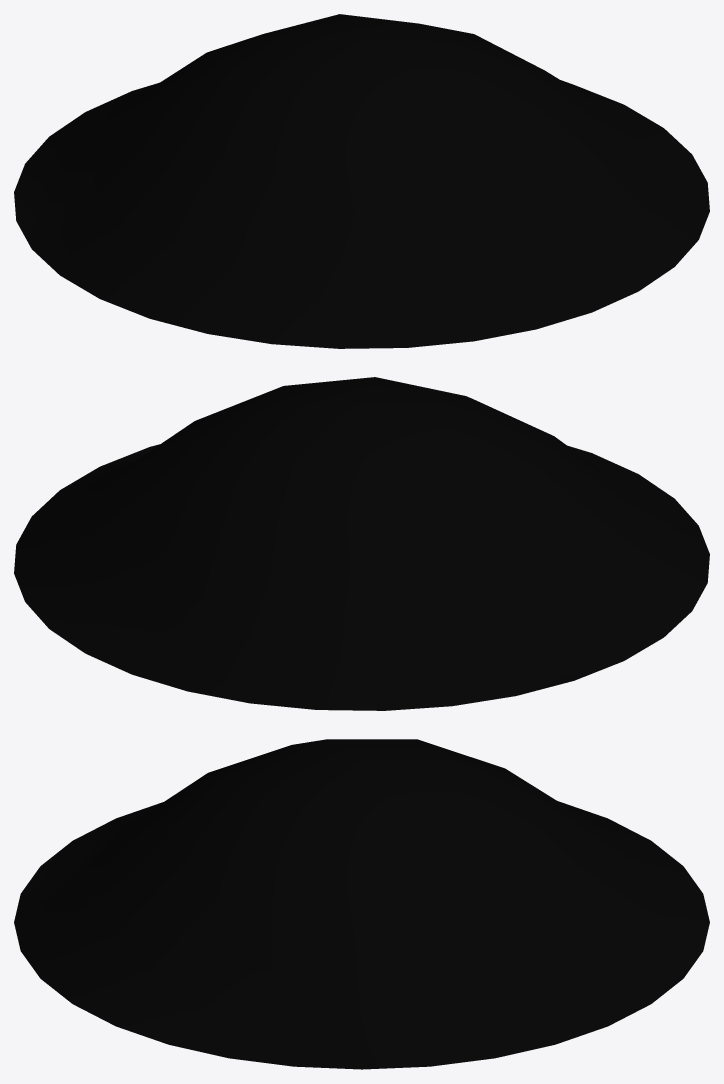
File: MountainFill_01.fbx
The picture shows the model from 3 angles, top to bottom: view 1: azimuth 30°, elevation 25°; view 2: azimuth 150°, elevation 25°; view 3: azimuth 270°, elevation 25°; orthographic projection.
Visible parts, largest first — view 1: MountainFill_01; view 2: MountainFill_01; view 3: MountainFill_01.
Boxes of the visible parts, x1,y1,x2,y2 form: MountainFill_01: (14,14,709,348); MountainFill_01: (14,377,709,710); MountainFill_01: (14,739,709,1069).
Size of the model in its own units: 2.84 by 0.7226 by 2.84.
